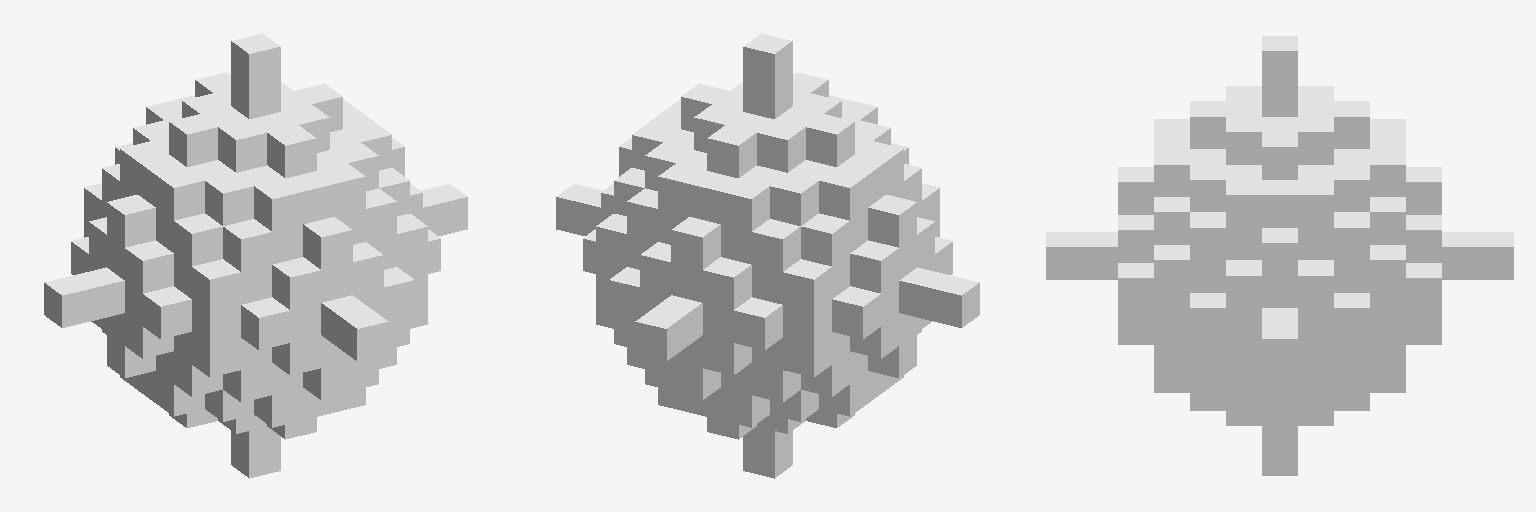
The model's file is synapse_enemy3.obj.
The picture shows the model from 3 angles: view 1: azimuth 30°, elevation 25°; view 2: azimuth 150°, elevation 25°; view 3: azimuth 270°, elevation 25°; orthographic projection.
Visible parts, largest first — view 1: object 1; view 2: object 1; view 3: object 1.
Boxes of the visible parts, x1,y1,x2,y2 form: object 1: [44, 33, 467, 478]; object 1: [556, 33, 979, 478]; object 1: [1046, 36, 1513, 475].
Size of the model in its own units: 1.3 by 1.3 by 1.3.